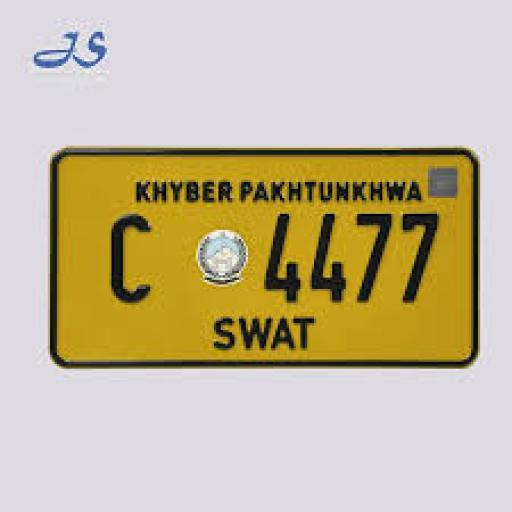4: (257, 212, 306, 302), (315, 215, 353, 311)
7: (400, 215, 447, 305), (358, 214, 400, 298)
C: (102, 200, 155, 310)
